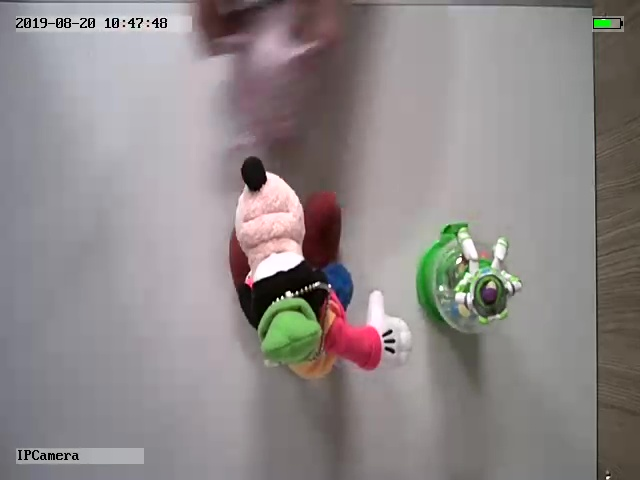buzz: (415, 220, 524, 339)
goofy: (224, 154, 415, 383)
